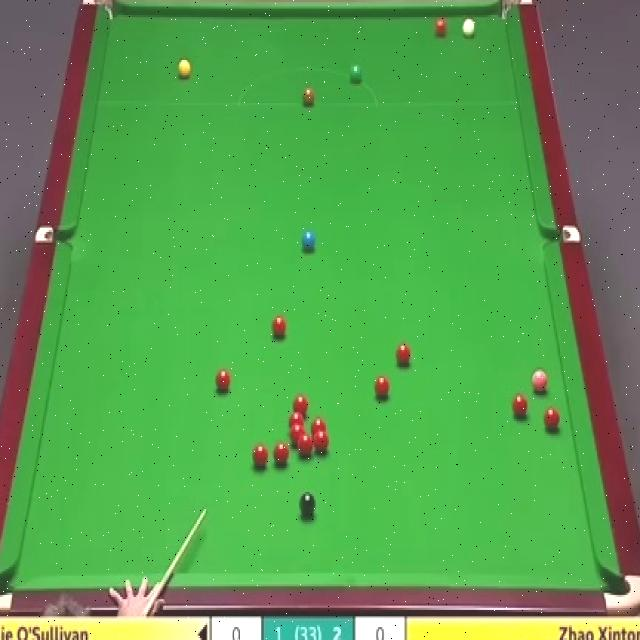black-ball: (299, 491, 316, 519)
blue-ball: (301, 230, 316, 249)
brown-ball: (301, 88, 316, 106)
green-ball: (352, 68, 366, 89)
pink-ball: (530, 369, 550, 395)
red-ball: (510, 392, 530, 419), (270, 317, 290, 342), (542, 405, 560, 430), (298, 434, 314, 460), (313, 431, 331, 453), (215, 369, 231, 392), (273, 442, 289, 465), (253, 444, 269, 466), (373, 377, 389, 399), (289, 427, 304, 447), (397, 344, 410, 366), (311, 417, 326, 436), (434, 17, 447, 37), (295, 394, 306, 417), (290, 415, 304, 433)
white-ball: (462, 16, 478, 41)
yellow-ball: (177, 58, 191, 80)
